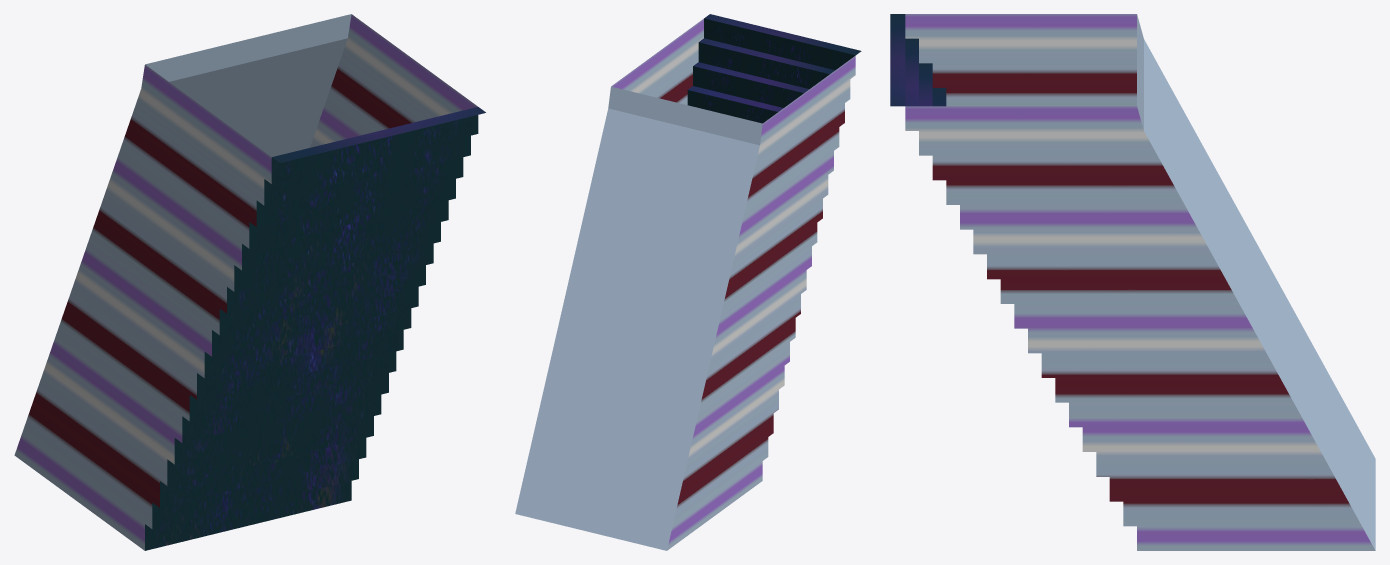
File: Hall_Stairs.fbx
3 views of the same model, side by side, from view 1: azimuth 30°, elevation 25°; view 2: azimuth 150°, elevation 25°; view 3: azimuth 270°, elevation 25° (orthographic). The views are drawn at different scales.
Visible parts, largest first — view 1: Hall_Stairs; view 2: Hall_Stairs; view 3: Hall_Stairs.
Part boxes in pixels (left/top/right/bottom): Hall_Stairs: left=14, top=14, right=485, bottom=550; Hall_Stairs: left=515, top=14, right=861, bottom=550; Hall_Stairs: left=890, top=14, right=1375, bottom=550.
Bounding box in the file's own units: 200 × 450 × 445.
Materials: 2 (2 with a texture image).
